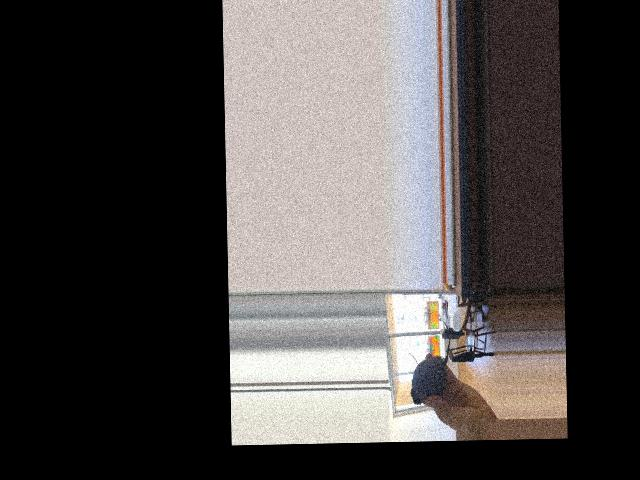beet: (408, 320, 451, 404)
